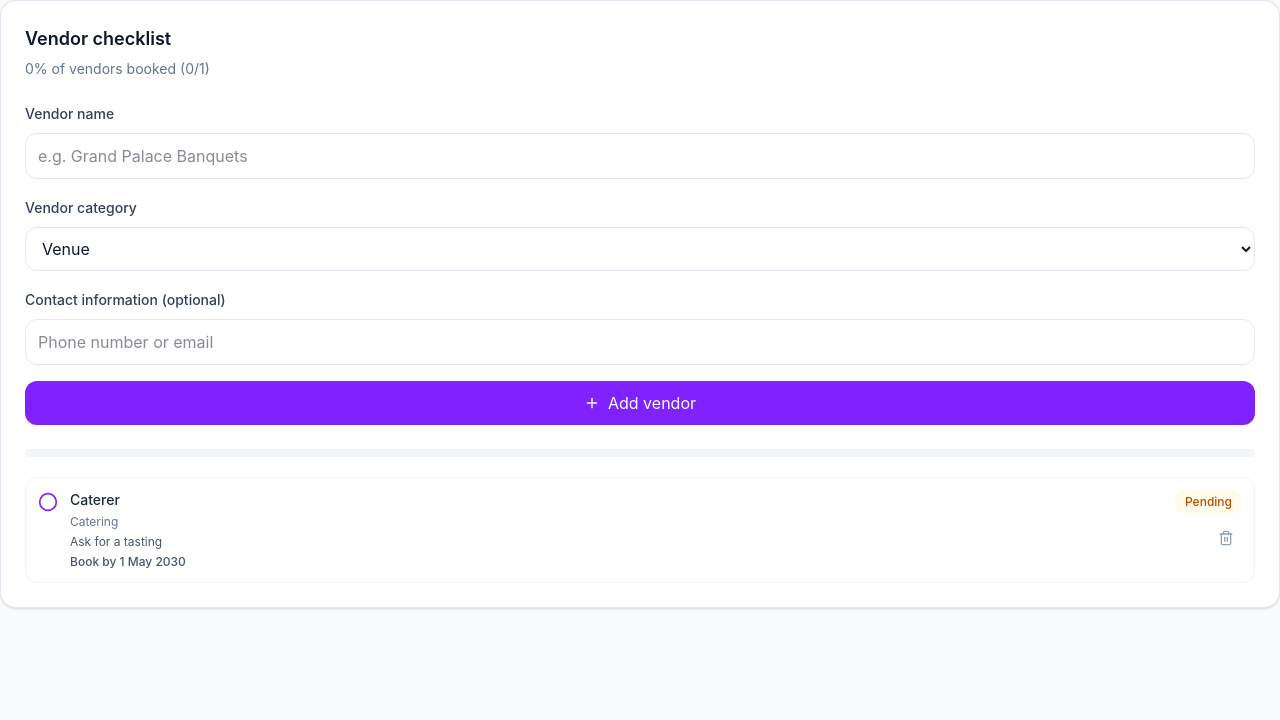
Test: VendorChecklist › deletes a vendor and shows the empty state
Click the button named "Delete Caterer". click: (1226, 538)
box: left=1210, top=522, right=1242, bottom=554
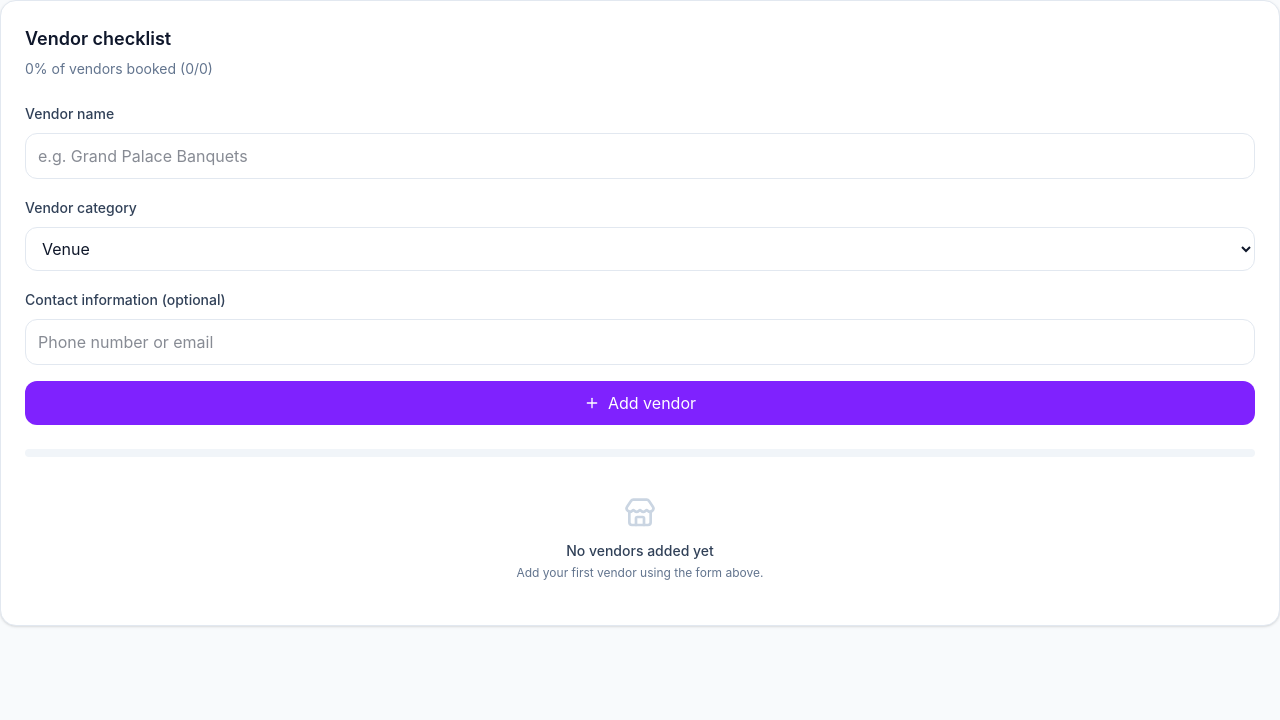
Check: the text "No vendors added yet" is shown, box left=566, top=542, right=714, bottom=559
